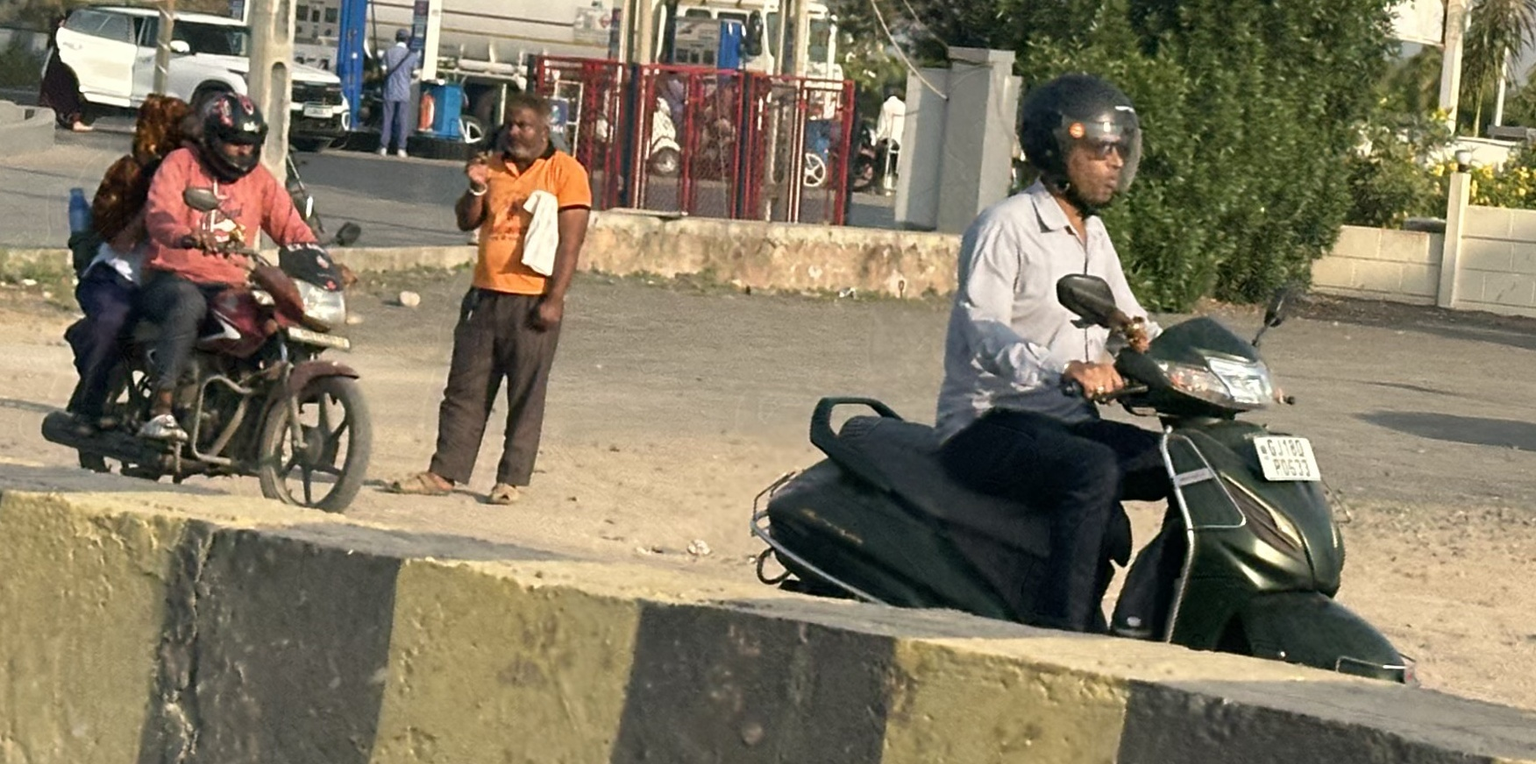BikeWithRider: (736, 61, 1427, 700), (29, 78, 384, 523)
Helmet: (1002, 63, 1160, 220), (180, 82, 278, 184)
NoHelmet: (119, 83, 210, 169)
